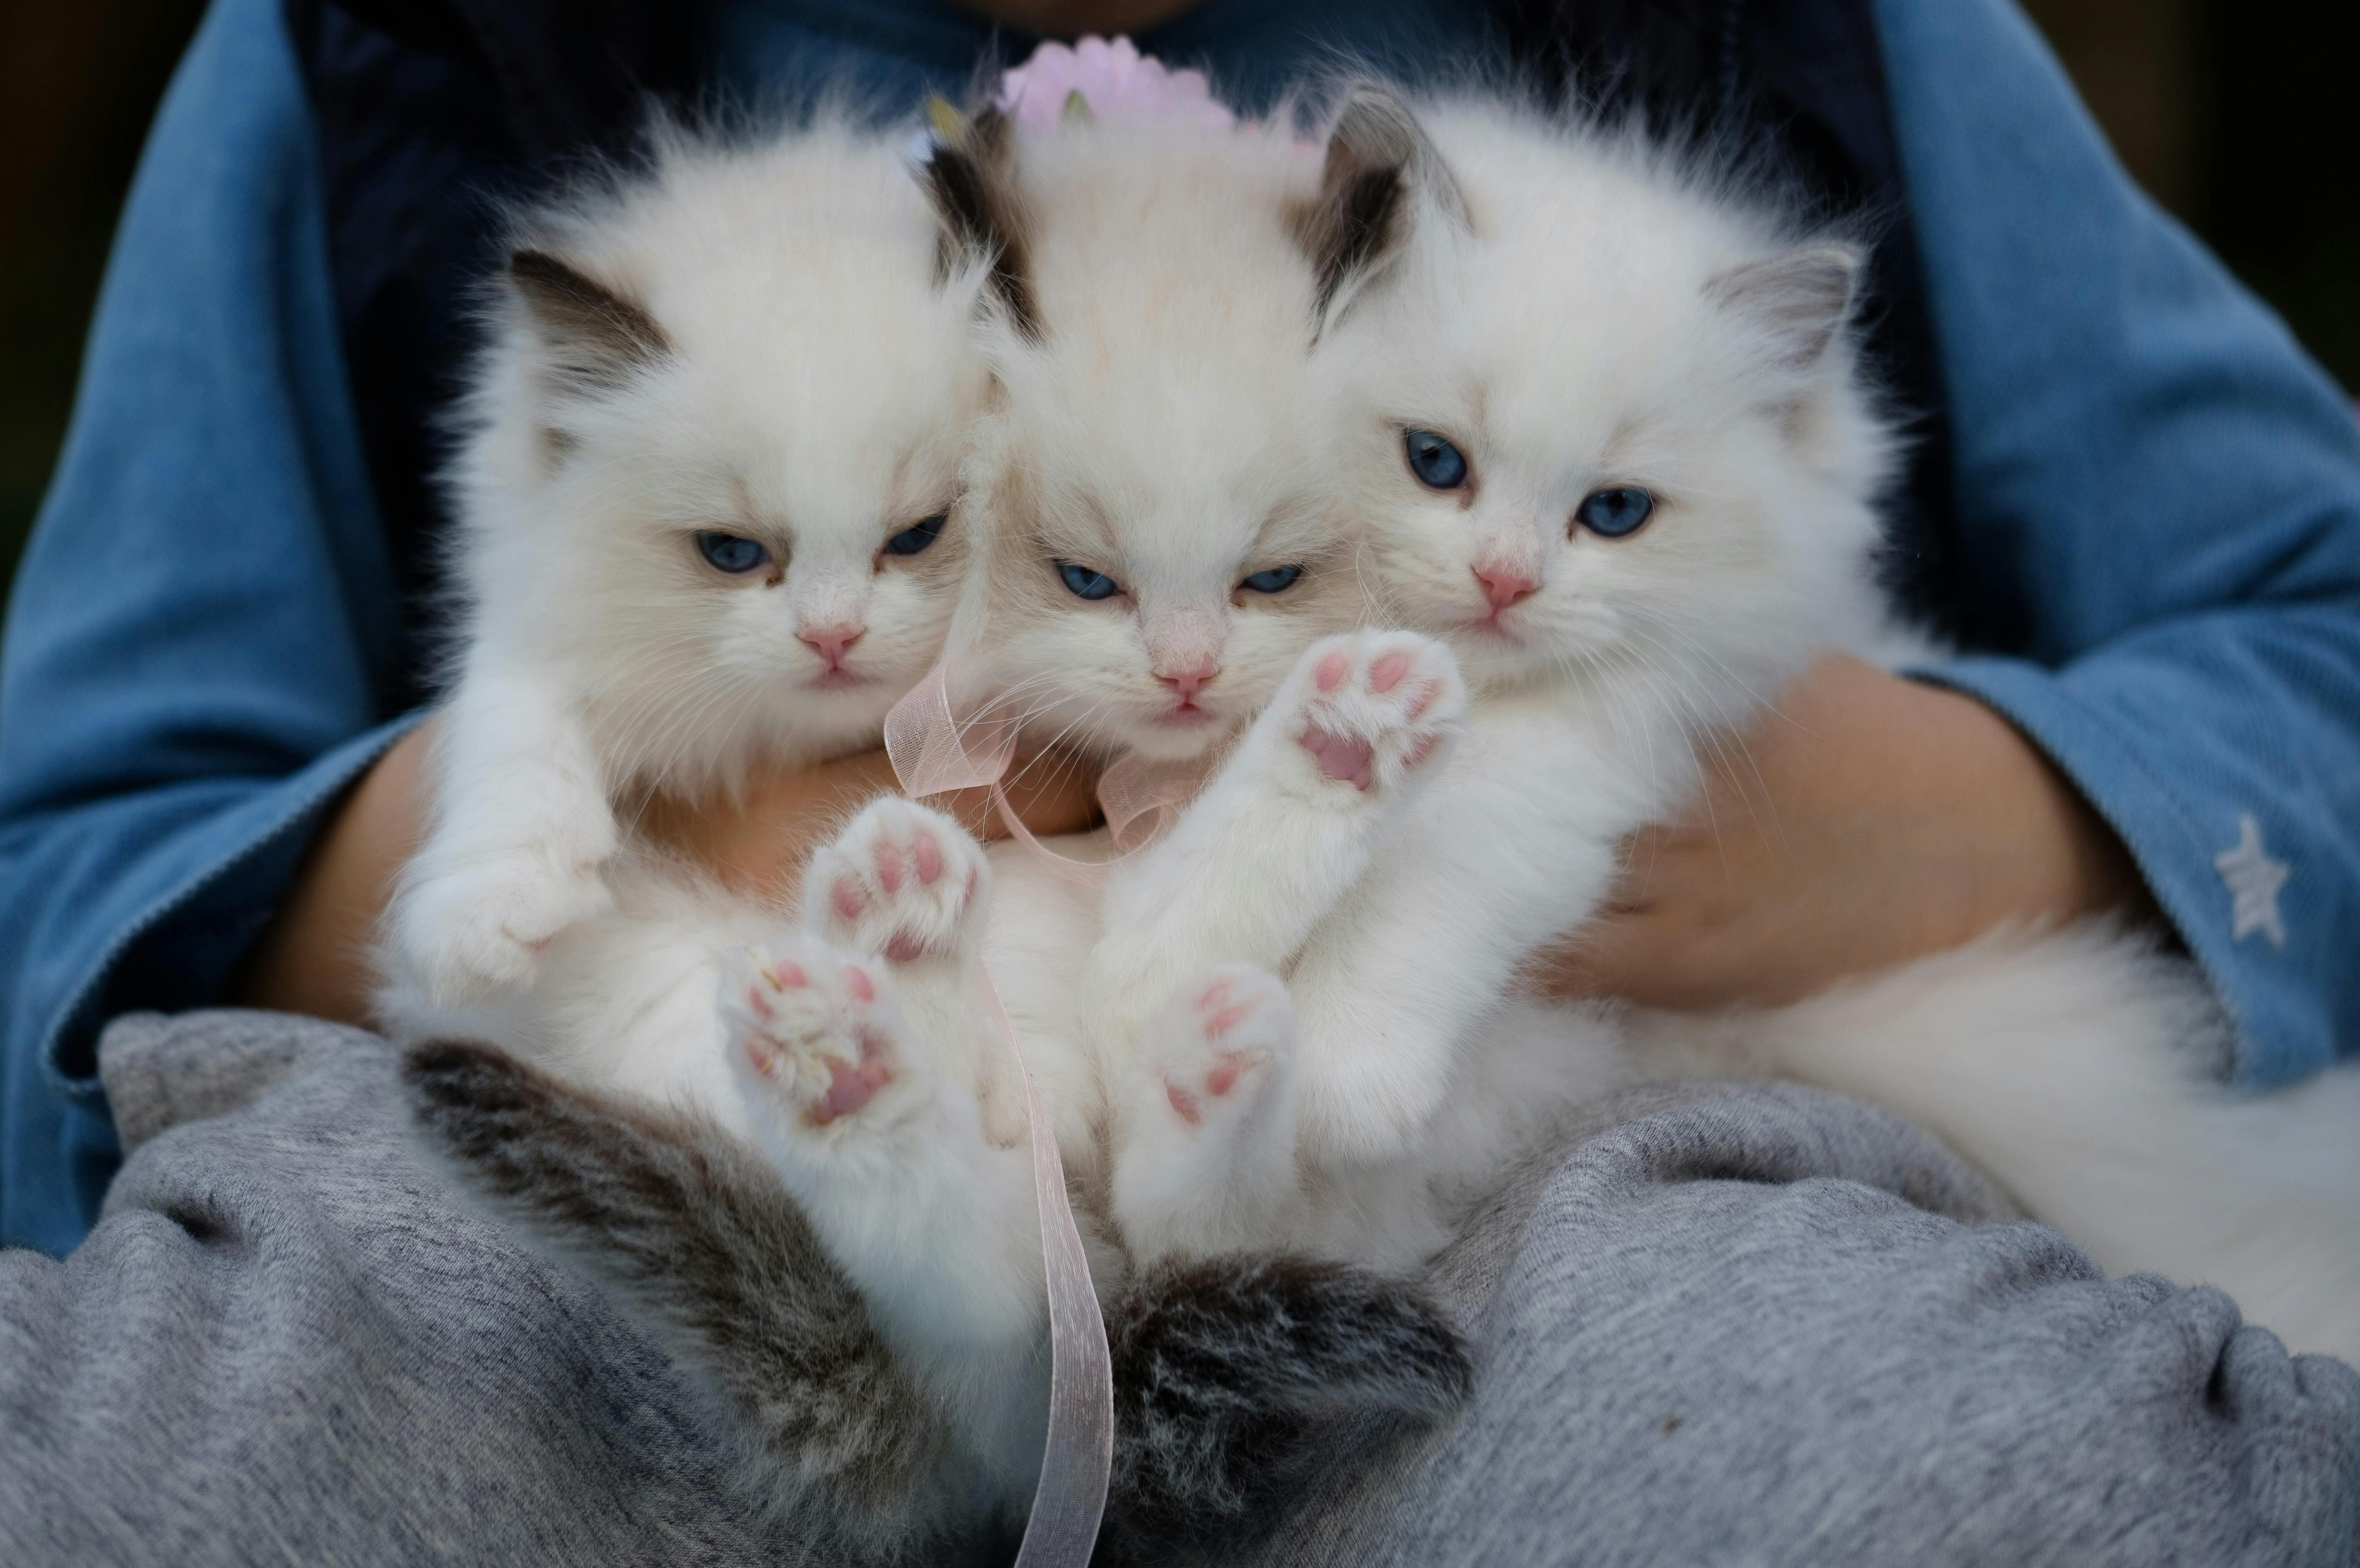kedo: (1312, 122, 1884, 695)
